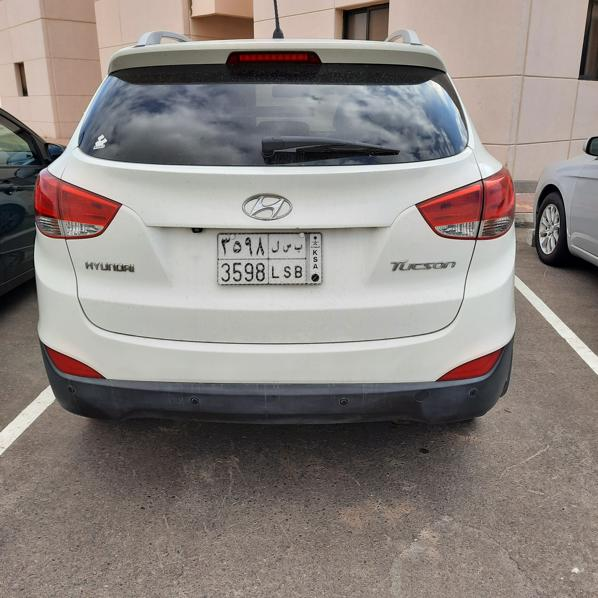numberplate: (218, 234, 322, 284)
